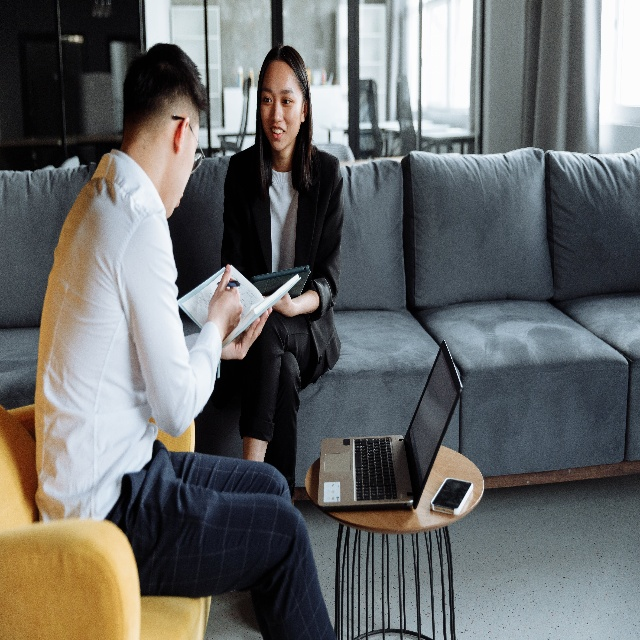Gafas: (172, 114, 205, 174)
Sin_guantes: (206, 263, 242, 342), (221, 307, 274, 359)
